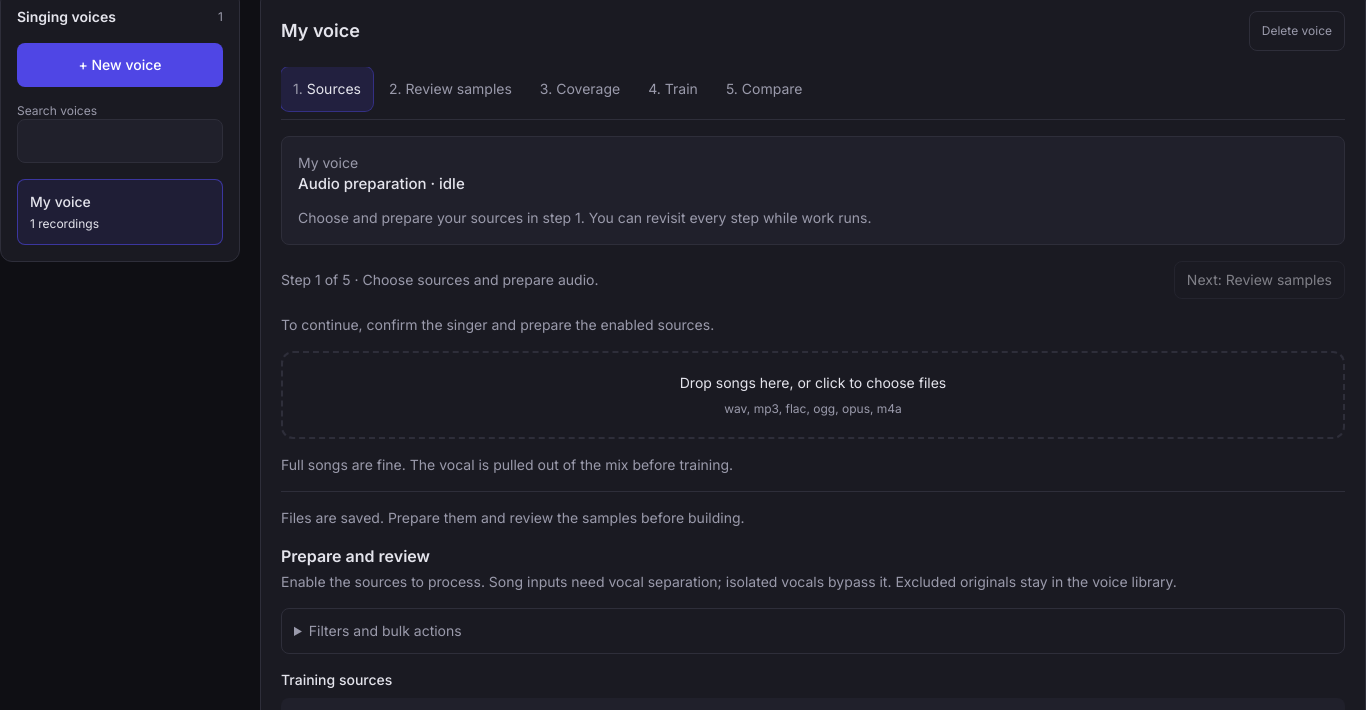
keeps published and archived reference labels understandable when historical choices are gone
What coordinates should you click on to do the following:
click the tab "5.Compare"
I would click on:
 (764, 89)
Its box is 714,67 -> 814,111.
(page scrolled)
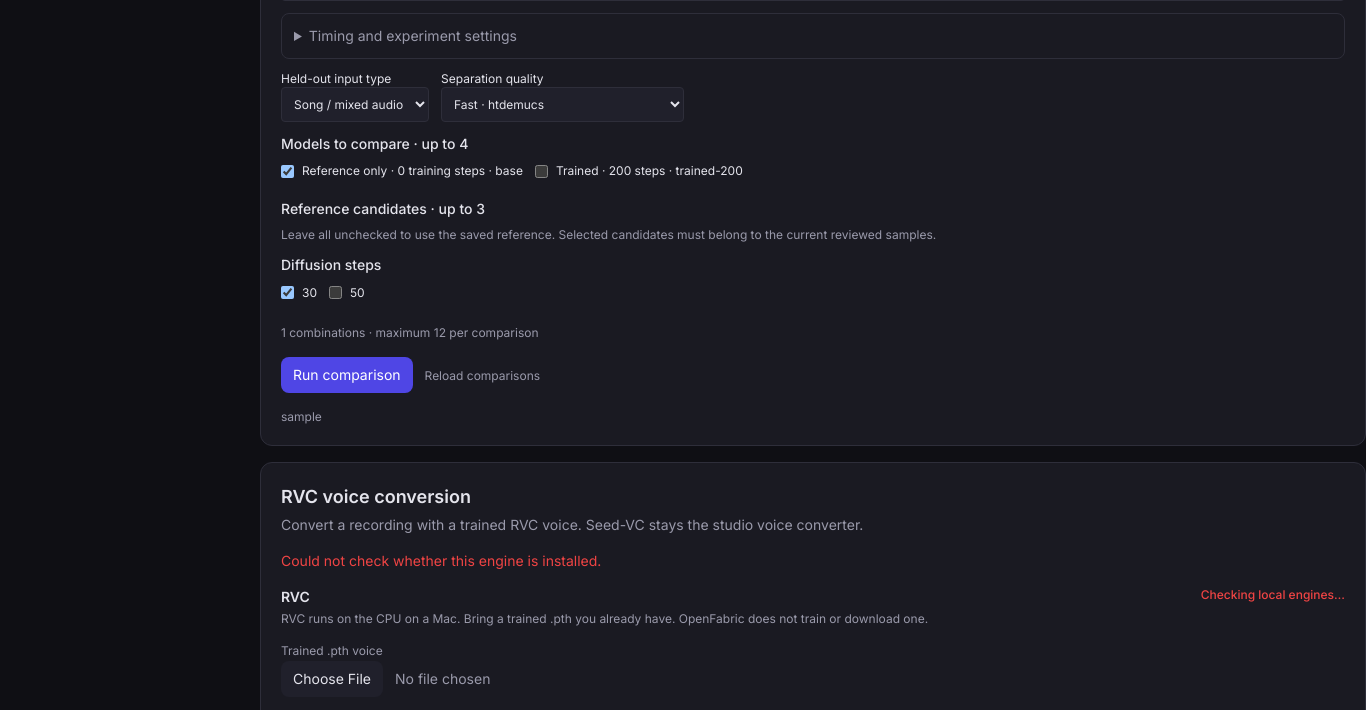
What coordinates should you click on to do the following:
click the button "Run comparison"
I would click on:
 (347, 374)
Its box is 281,356 -> 413,392.
(page scrolled)
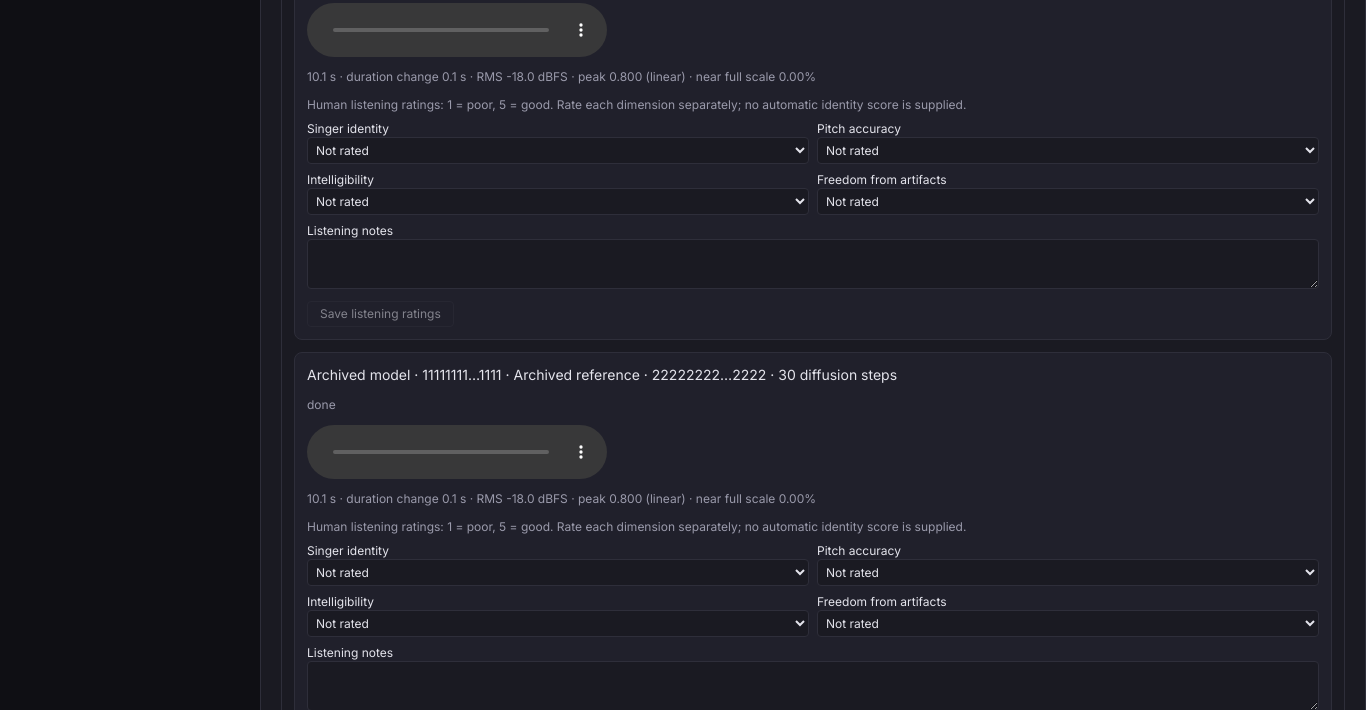
Now the heading with id "trial-comparison-1-archived-trial" shows "Archived reference · 22222222…2222", box 514,366 -> 766,382
